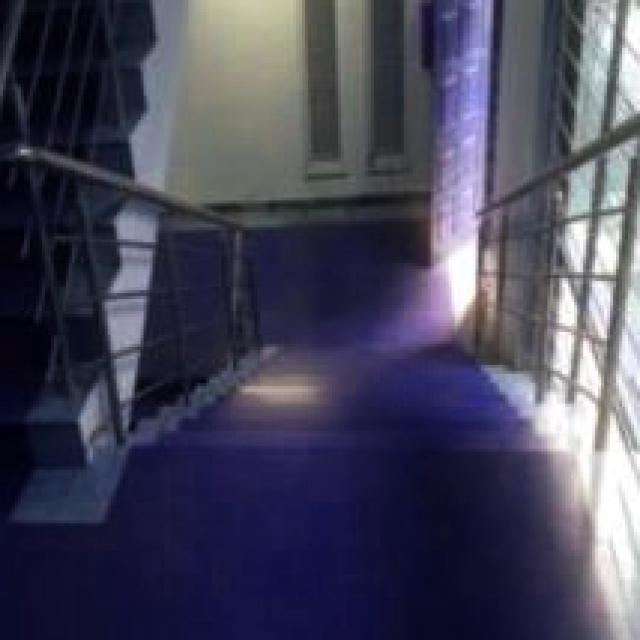downstair: (181, 351, 558, 497)
